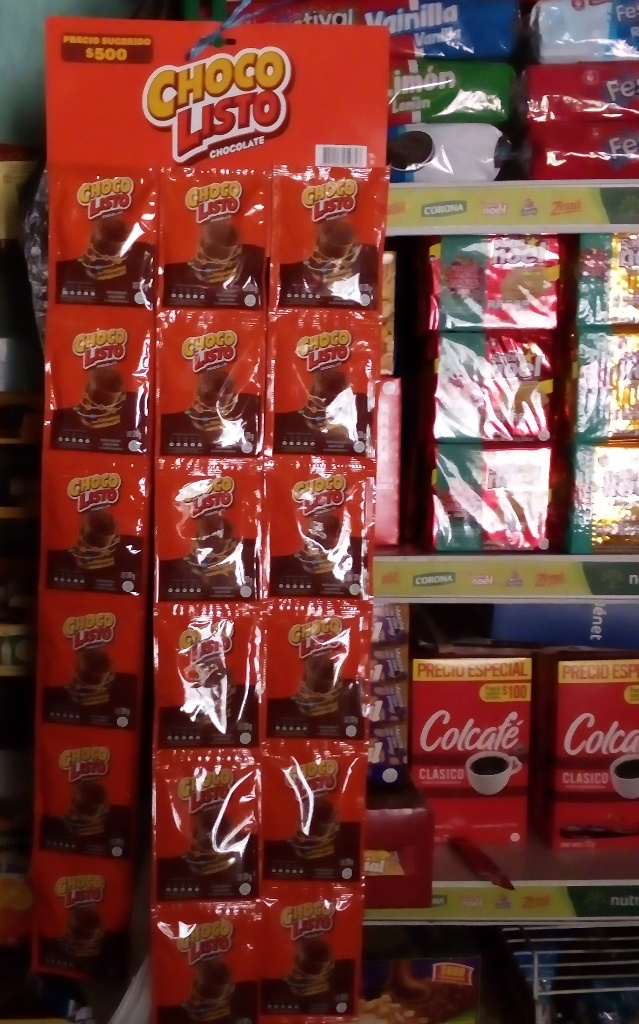COL0170103SOB02000: (50, 161, 160, 313)
